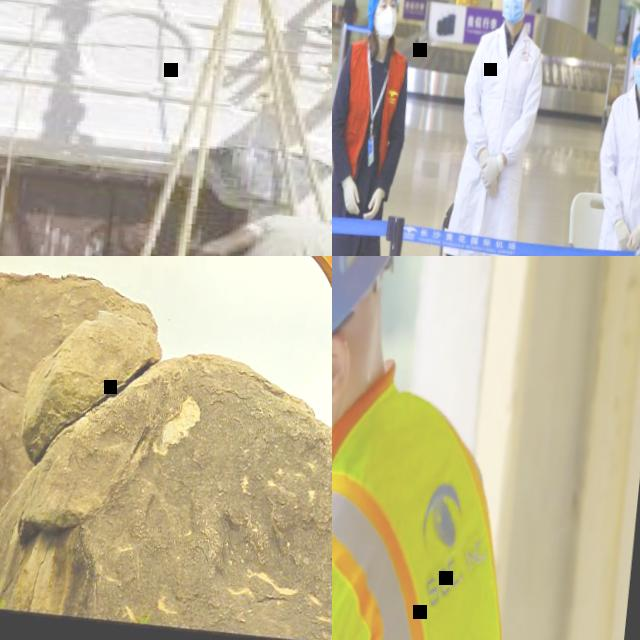Hardhat: (332, 256, 413, 392)
Mask: (374, 3, 398, 40), (499, 0, 526, 25), (630, 61, 640, 94)
NO-Hardhat: (628, 26, 640, 55)
NO-Safety Vest: (457, 31, 537, 223), (333, 39, 408, 175), (188, 207, 332, 256), (597, 93, 640, 243), (341, 0, 354, 21)
Person: (332, 256, 558, 640), (416, 0, 555, 256), (5, 155, 332, 256), (332, 0, 422, 256), (569, 22, 640, 256), (337, 0, 359, 47)
Safety Vest: (332, 375, 533, 640)
vehicle: (0, 256, 332, 626)
